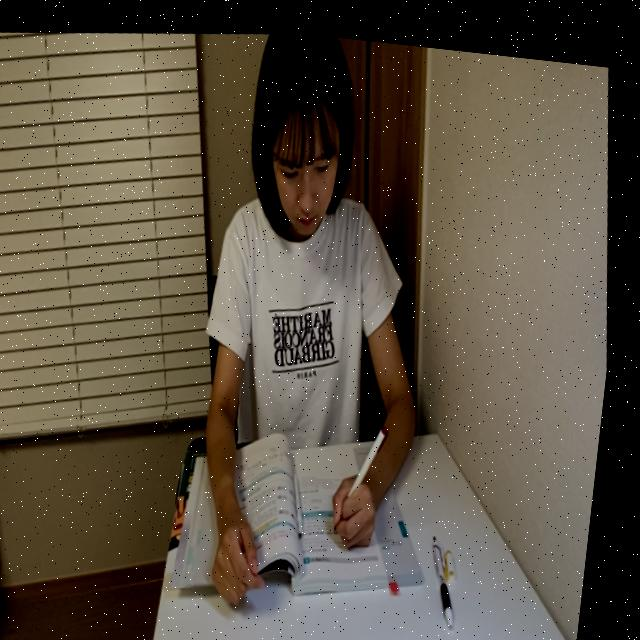studying-person: (102, 13, 495, 640)
